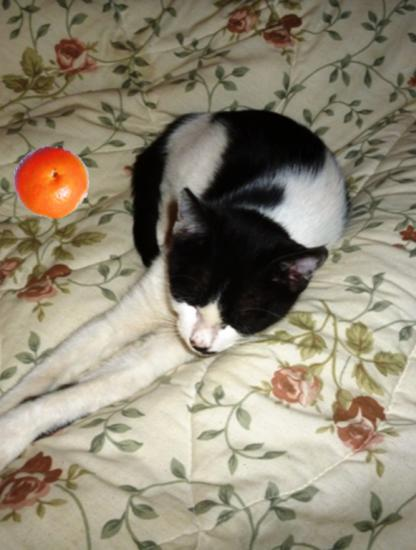Tangelo: (13, 143, 90, 220)
